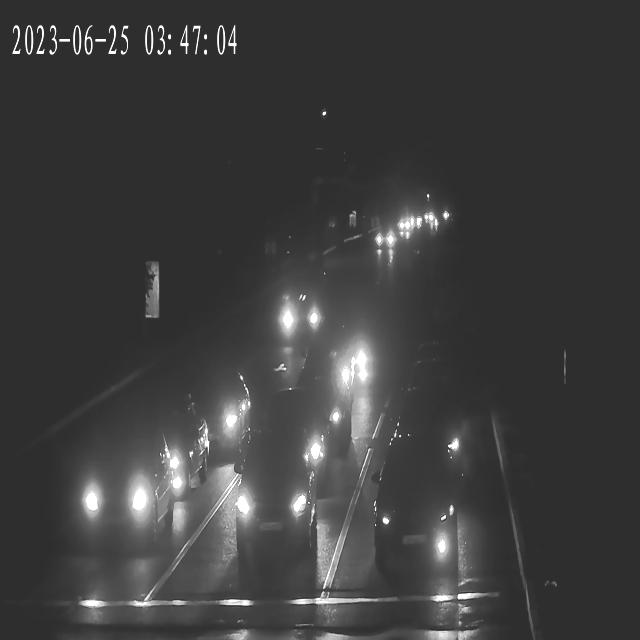Car: (62, 428, 178, 557), (113, 398, 212, 502), (234, 459, 321, 572), (372, 473, 458, 575), (394, 380, 471, 486), (158, 374, 252, 458), (268, 391, 328, 489), (292, 362, 354, 449), (328, 324, 376, 396), (274, 295, 326, 345), (414, 203, 438, 236), (371, 231, 398, 252), (395, 220, 411, 233)
